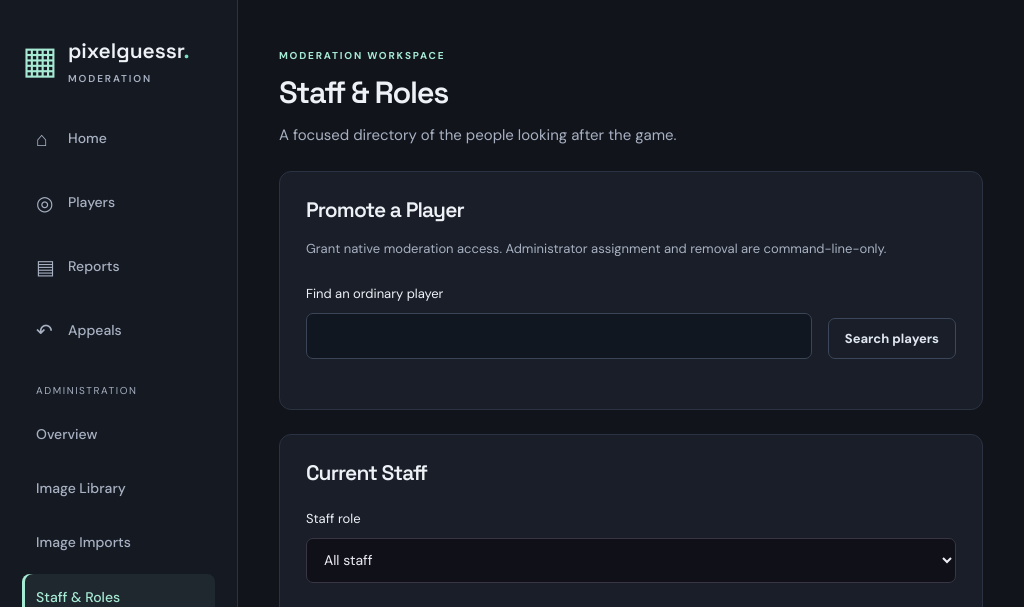
Test: requires explicit confirmation to promote an ordinary player
This screenshot has width=1024, height=607.
expect the heading "Current Staff" is shown: met, box [306,459,427,486]
Type "imagehunter" into the field labelled "Find an ordinary player". click: coordinates (559, 336)
box: [306,313,812,359]
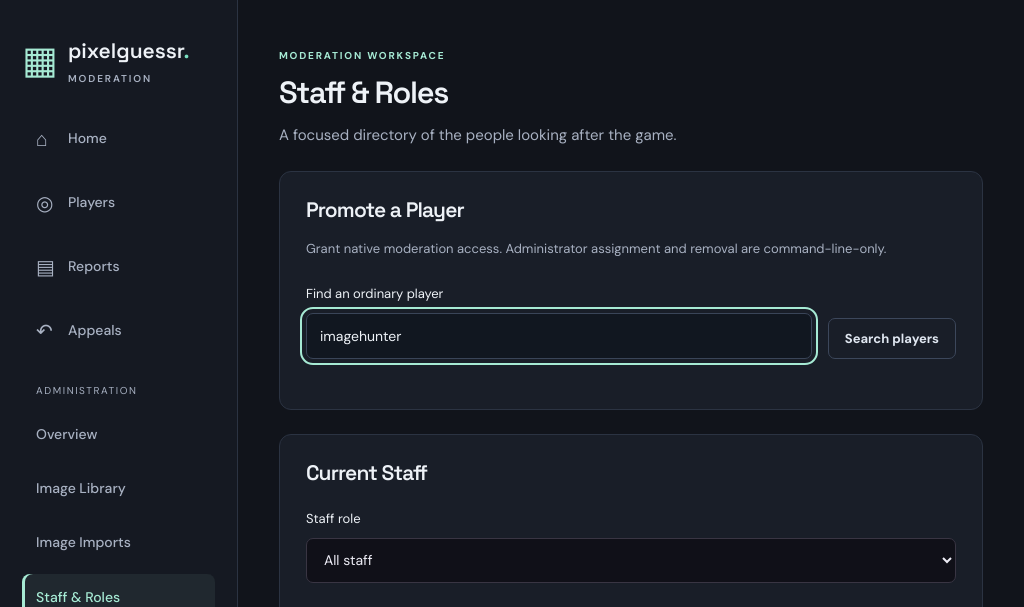
Click the button "Search players". click: coordinates (892, 339)
box: [828,318,956,359]
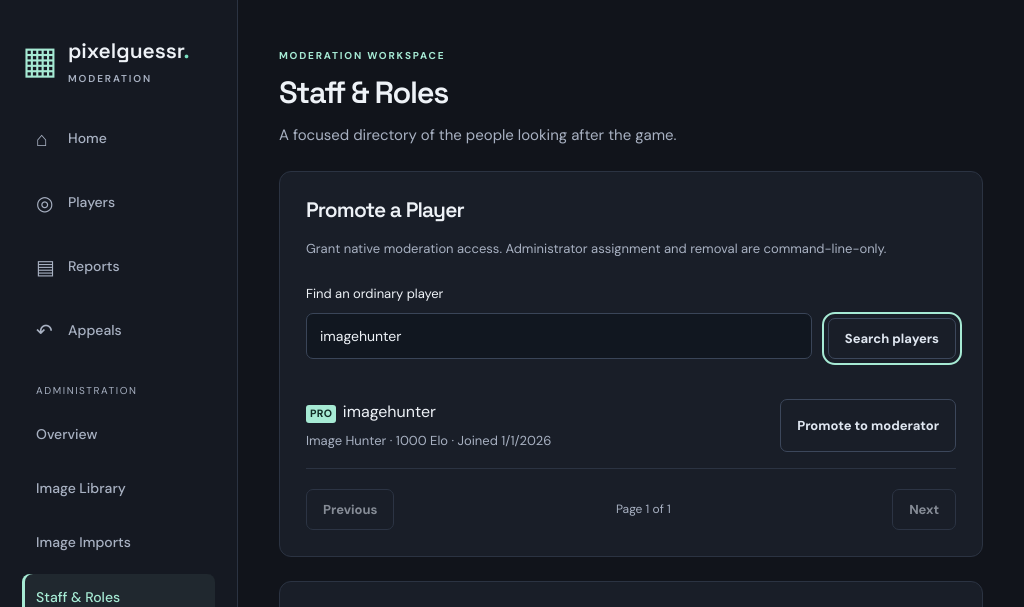
Click the button "Promote to moderator". click: coordinates (868, 426)
box: [780,399,956,452]
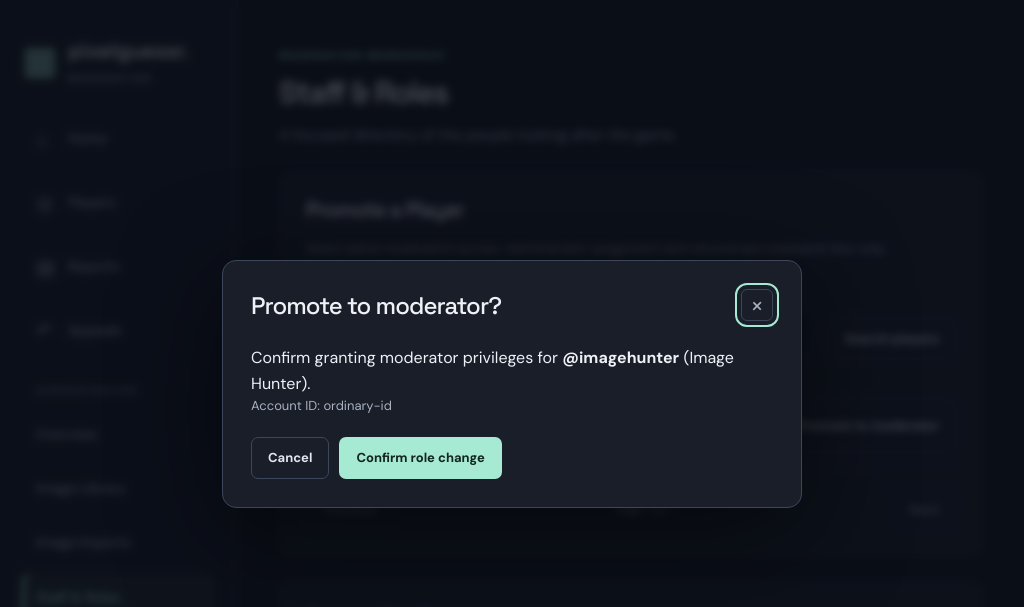
expect the text "Account ID: ordinary-id" is shown: met, box [251,397,392,414]
Click the button "Confirm role change". click: coordinates (421, 458)
box: [339,437,502,479]
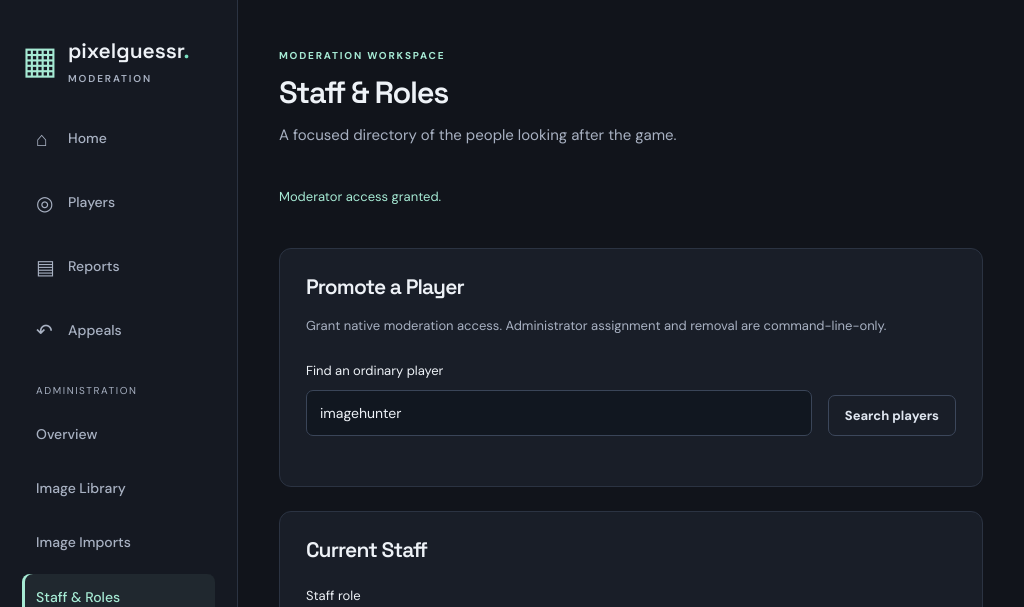
expect the text "Moderator access granted." is shown: met, box [279,188,441,205]
